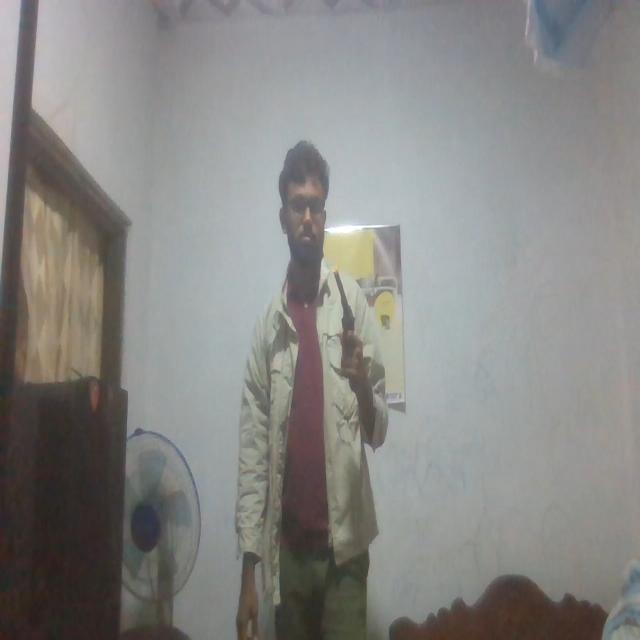Gun_Holder: (324, 260, 362, 382)
Jacket_Wearer: (226, 278, 400, 587)
Person: (222, 127, 394, 640)
